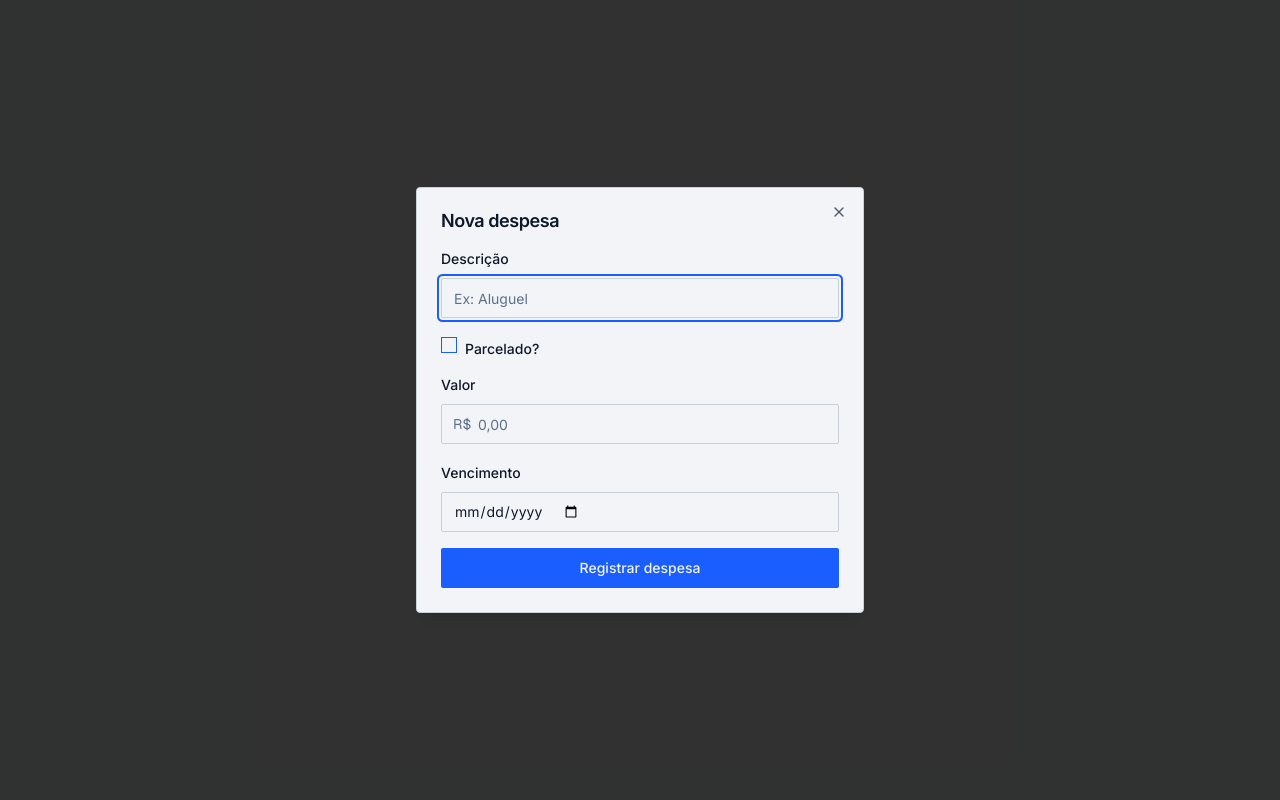
LancamentoModal — Despesa parcelada › marcar o checkbox Parcelado exibe o campo Quantidade de parcelas
The width and height of the screenshot is (1280, 800).
Expected: the field labelled "Quantidade de parcelas" is not shown
Click the checkbox named "Parcelado?". click: {"x": 449, "y": 345}
box: left=441, top=337, right=457, bottom=353
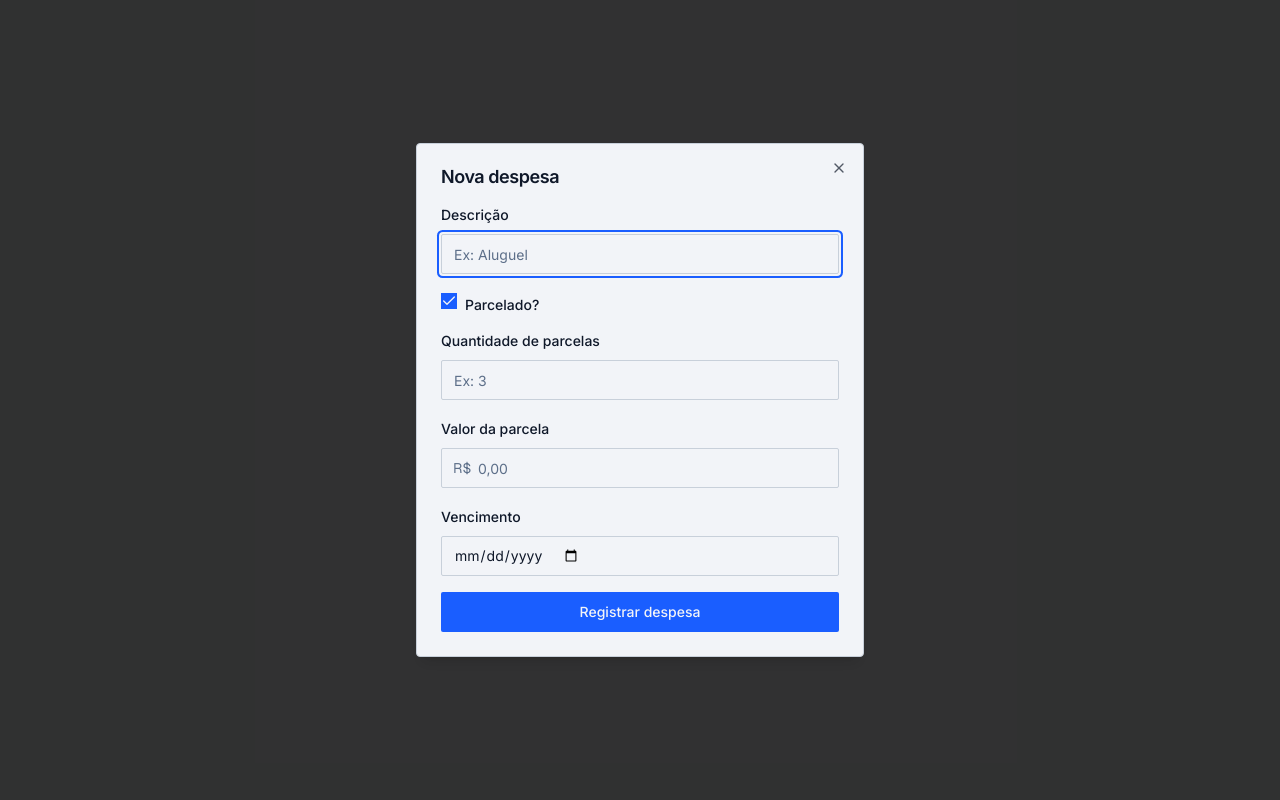
Now the number field labelled "Quantidade de parcelas" is shown, box left=441, top=360, right=839, bottom=400
